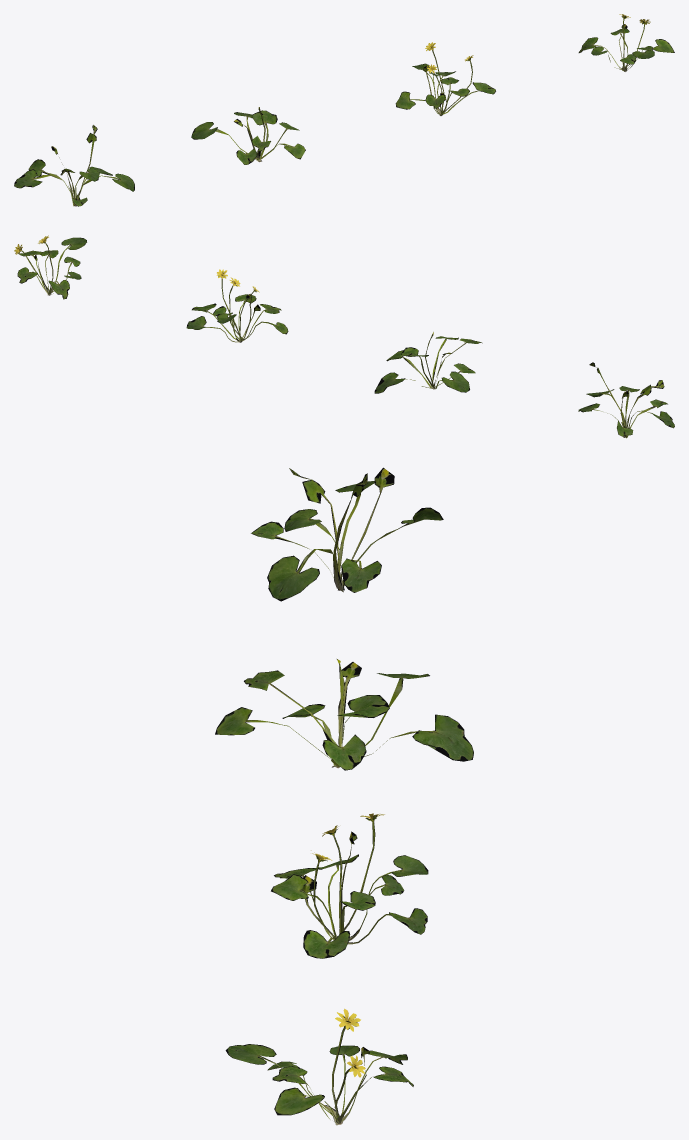
File: celandine.glb
3 renders of one model, top to bottom at view 1: azimuth 30°, elevation 25°; view 2: azimuth 150°, elevation 25°; view 3: azimuth 270°, elevation 25°, orthographic. The views are drawn at different scales.
Parts seen in each view (by area): view 1: celandine_01_b_LOD0, celandine_01_a_LOD0, celandine_01_c_LOD0, celandine_01_d_LOD0; view 2: celandine_01_c_LOD0, celandine_01_b_LOD0, celandine_01_d_LOD0, celandine_01_a_LOD0; view 3: celandine_01_b_LOD0, celandine_01_a_LOD0, celandine_01_c_LOD0, celandine_01_d_LOD0.
Boxes of the visible parts, x1,y1,x2,y2 form: celandine_01_b_LOD0: [191, 107, 305, 164]; celandine_01_a_LOD0: [14, 125, 134, 206]; celandine_01_c_LOD0: [395, 42, 495, 115]; celandine_01_d_LOD0: [578, 14, 674, 71]; celandine_01_c_LOD0: [186, 269, 288, 342]; celandine_01_b_LOD0: [374, 332, 482, 393]; celandine_01_d_LOD0: [14, 235, 86, 299]; celandine_01_a_LOD0: [578, 362, 674, 438]; celandine_01_b_LOD0: [215, 659, 473, 770]; celandine_01_a_LOD0: [251, 467, 443, 601]; celandine_01_c_LOD0: [271, 813, 428, 958]; celandine_01_d_LOD0: [225, 1008, 413, 1125].
Size of the model in its own units: 1.75 by 0.185 by 0.3067.
Materials: 1 (1 with a texture image).
